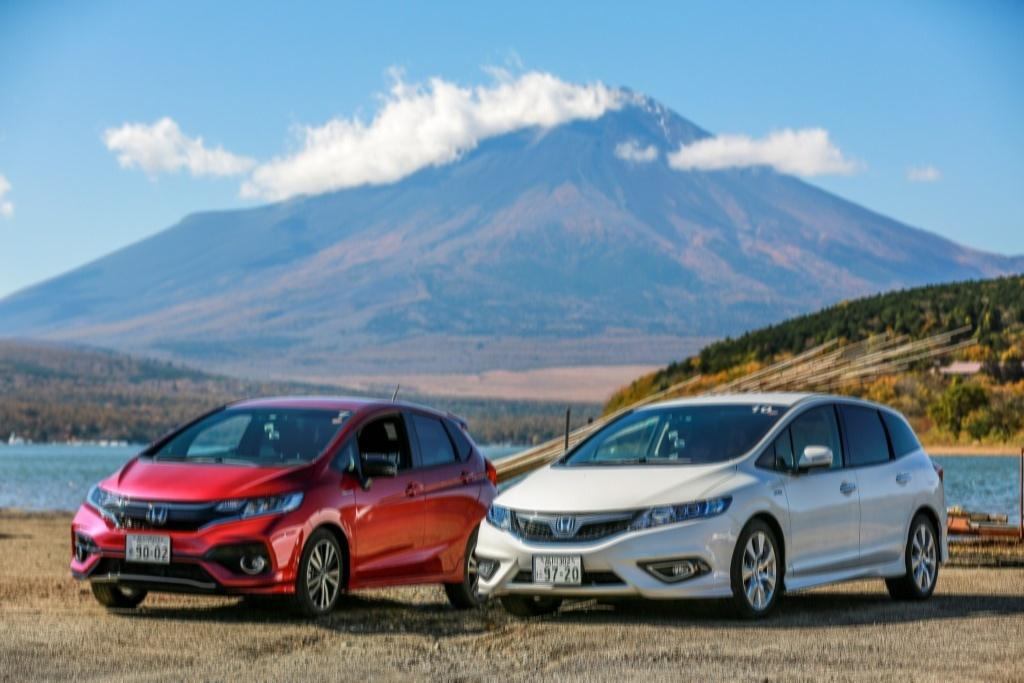Car hood: (490, 456, 741, 518), (95, 451, 300, 504)
Fender - -F-L-: (701, 447, 797, 589), (300, 453, 357, 582)
Fender - -R-L-: (903, 469, 943, 567)
Front bumper: (465, 520, 737, 609), (59, 517, 311, 601)
Headlight - -L-: (625, 492, 738, 535), (212, 487, 308, 529)
Headlight - -R-: (80, 479, 133, 531), (478, 498, 530, 542)
Passenger-s door - -F-L-: (787, 397, 862, 578), (353, 406, 426, 579)
Passenger-s door - -R-L-: (856, 400, 917, 571), (425, 411, 479, 577)
Rear bumper: (937, 513, 965, 574)
Rear light - -L-: (481, 450, 506, 491), (927, 456, 955, 484)
Side bumper - -L-: (774, 560, 914, 597), (345, 565, 469, 595)
Side mirror - -L-: (791, 436, 841, 483), (358, 447, 400, 494)
